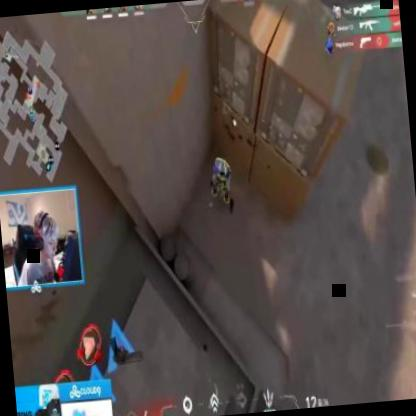enemy: (208, 153, 235, 218)
enemy_head: (218, 160, 226, 174)
